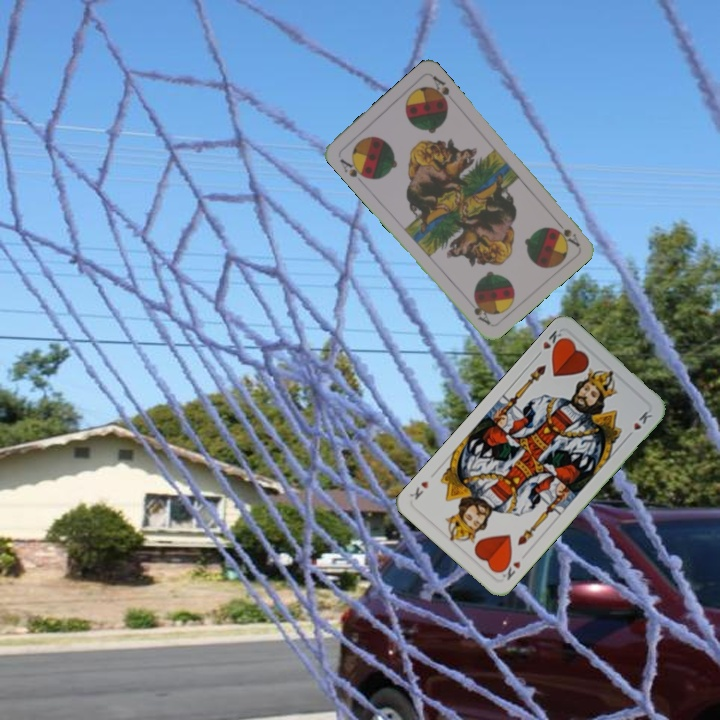HK: (532, 326, 568, 360), (496, 555, 523, 583)
SA: (550, 215, 582, 249), (336, 154, 371, 181)
